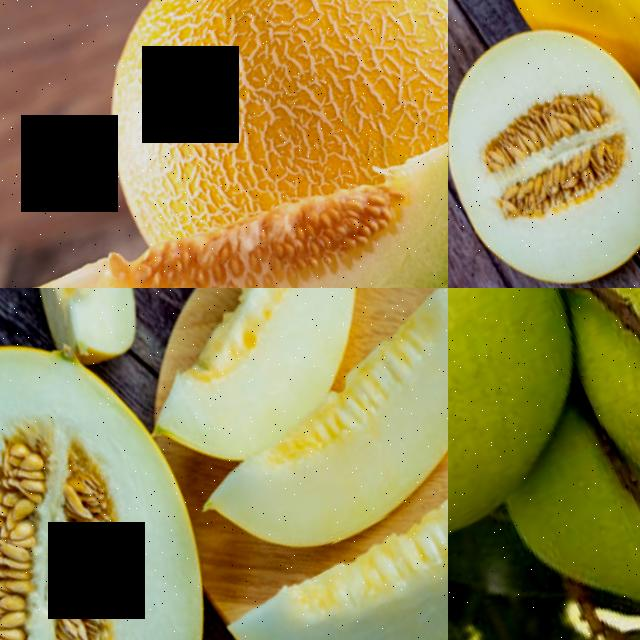mango: (448, 288, 640, 585), (481, 288, 640, 588)
melon: (28, 0, 448, 251), (0, 305, 291, 640), (12, 73, 448, 288), (180, 315, 448, 593), (448, 0, 640, 288), (209, 420, 448, 640), (94, 288, 428, 420)
